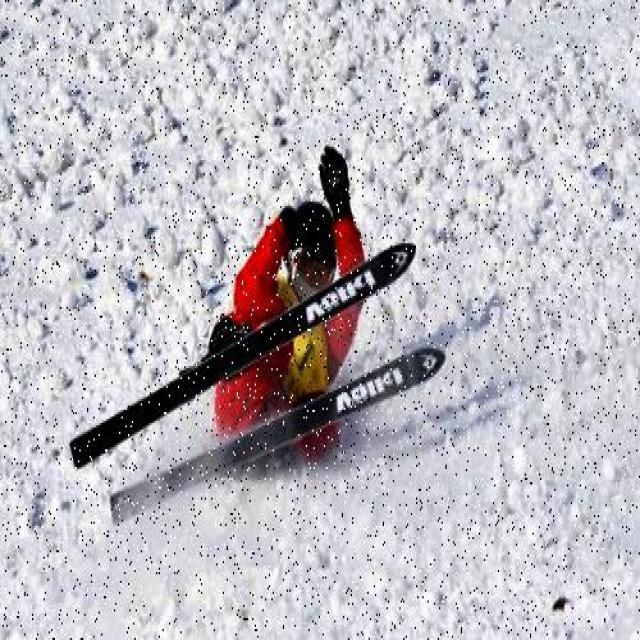fall: (208, 149, 372, 469)
